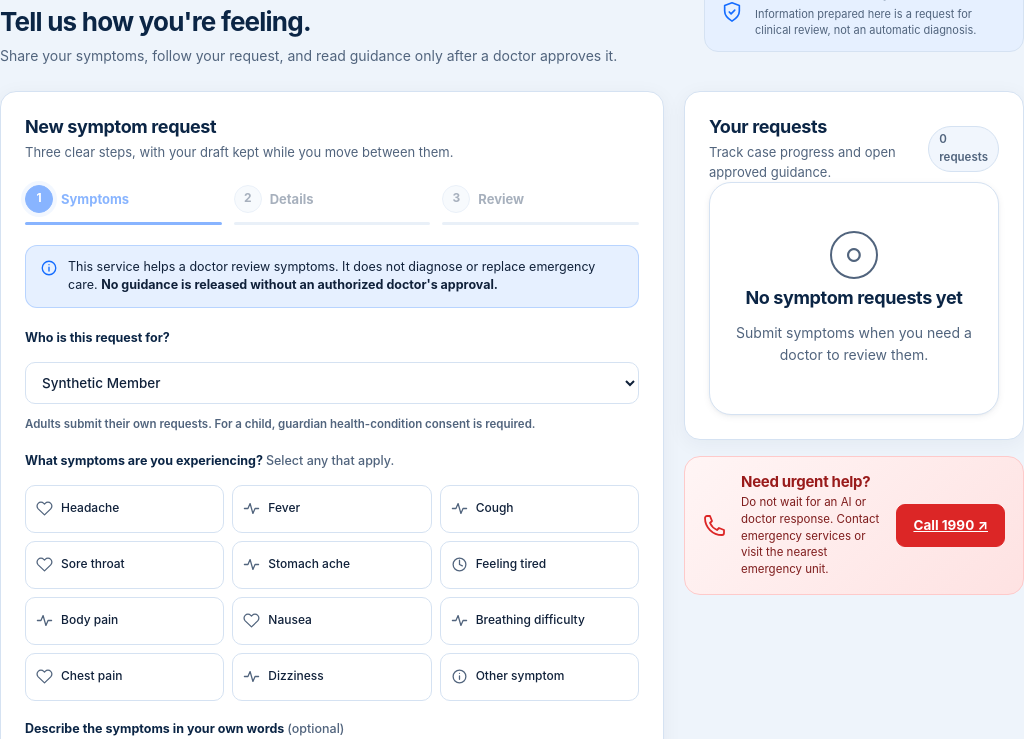
Test: Triage three-step journey › blocks an out-of-range duration before review and keeps the symptom draft
Click the button "Headache" at (125, 509), box [25,485,224,533]
(page scrolled)
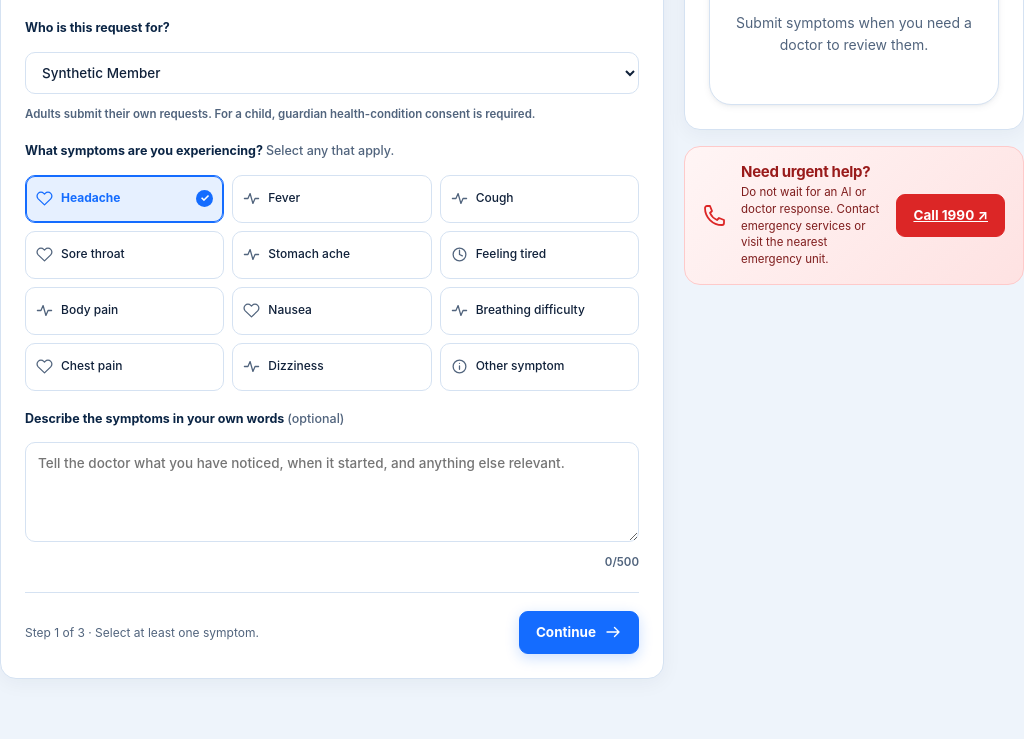
Click the button "Continue" at (579, 632), box [519,611,639,654]
(page scrolled)
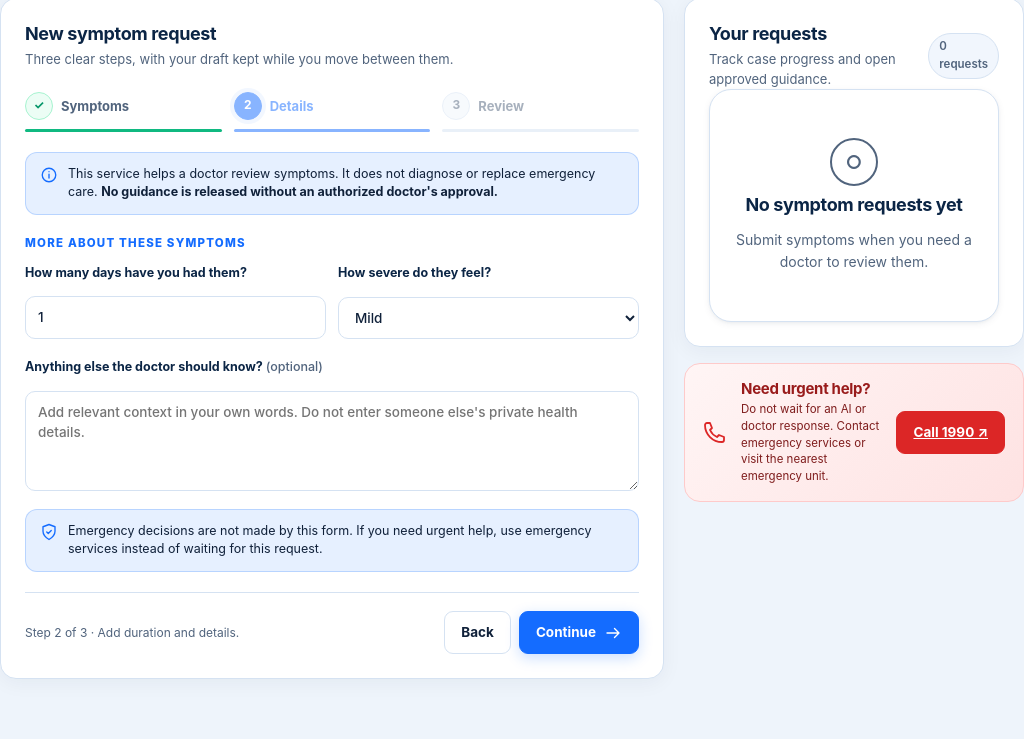
Replace the text in the number field labelled "How many days have you had them?" with "-1" at (176, 318), box [25,296,326,339]
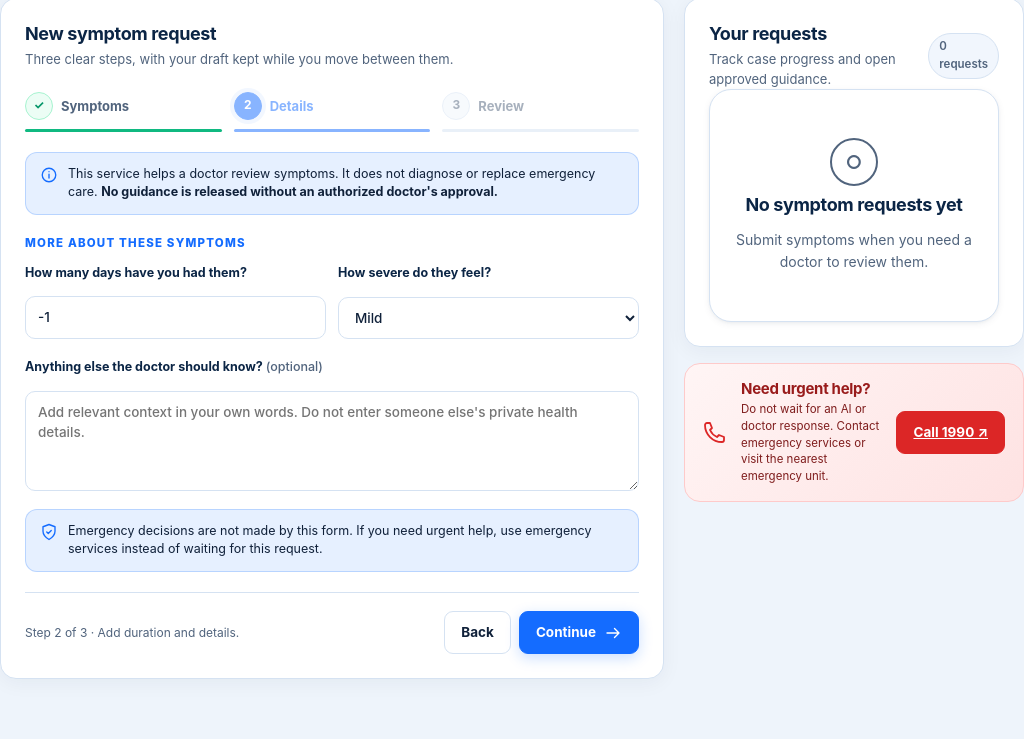
Click the button "Continue" at (579, 633), box [519,611,639,654]
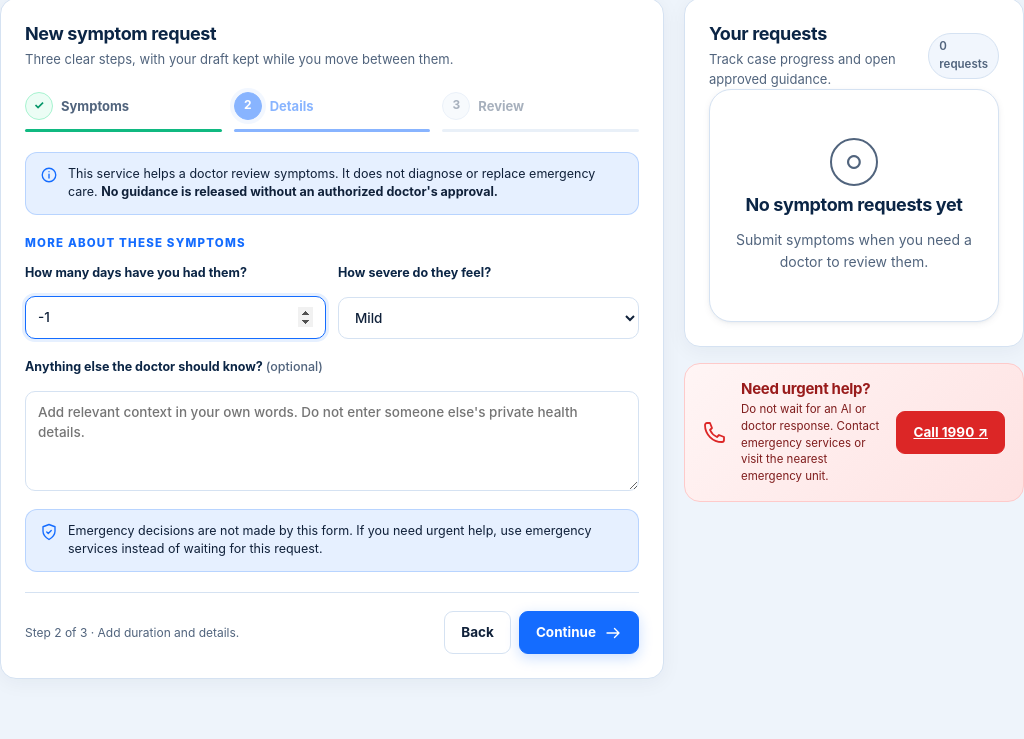
Expected: the button "Submit for doctor review" is not shown
Replace the text in the number field labelled "How many days have you had them?" with "2" at (176, 318), box [25,296,326,339]
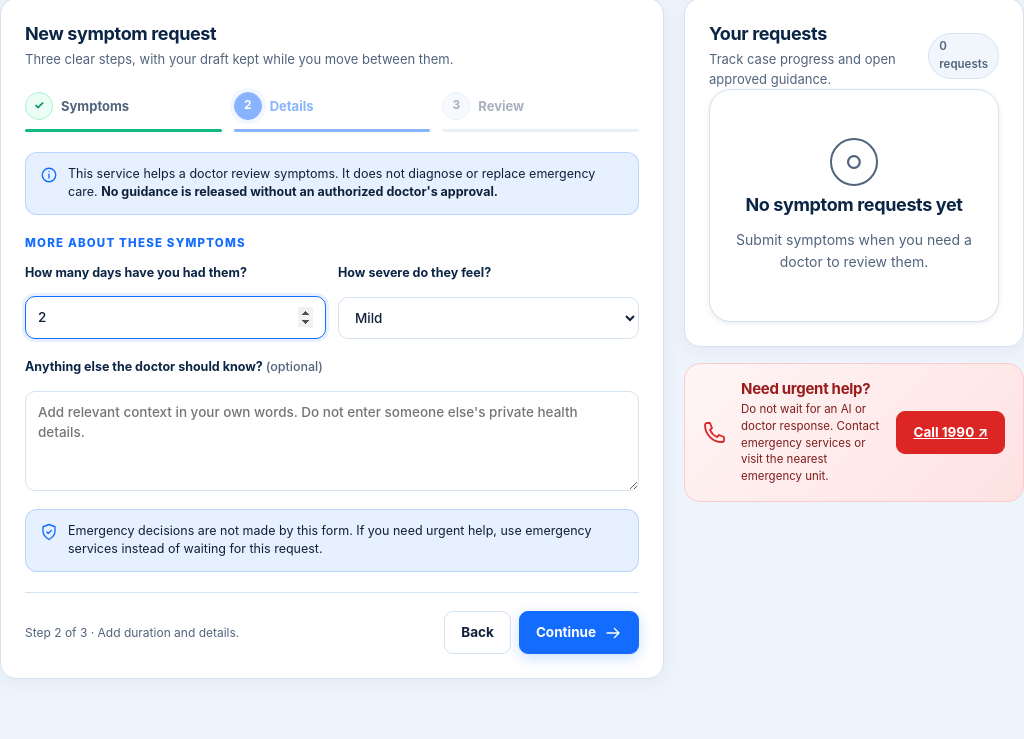
Click the button "Continue" at (579, 633), box [519,611,639,654]
(page scrolled)
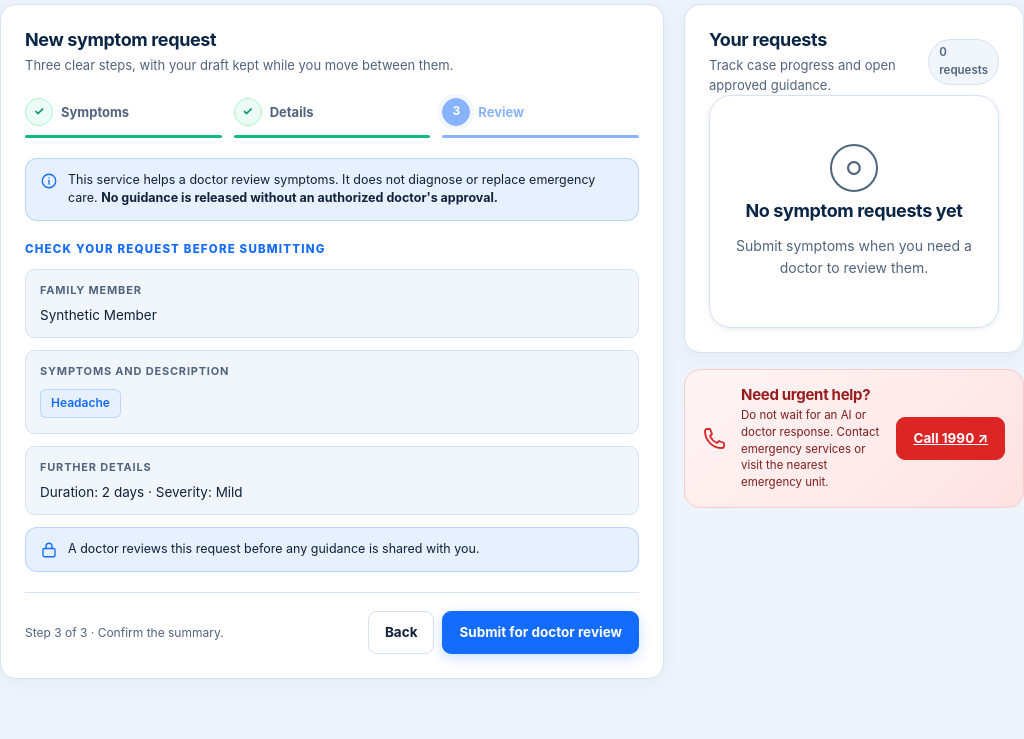
Expected: the button "Submit for doctor review" is shown, [442,611,639,654]
